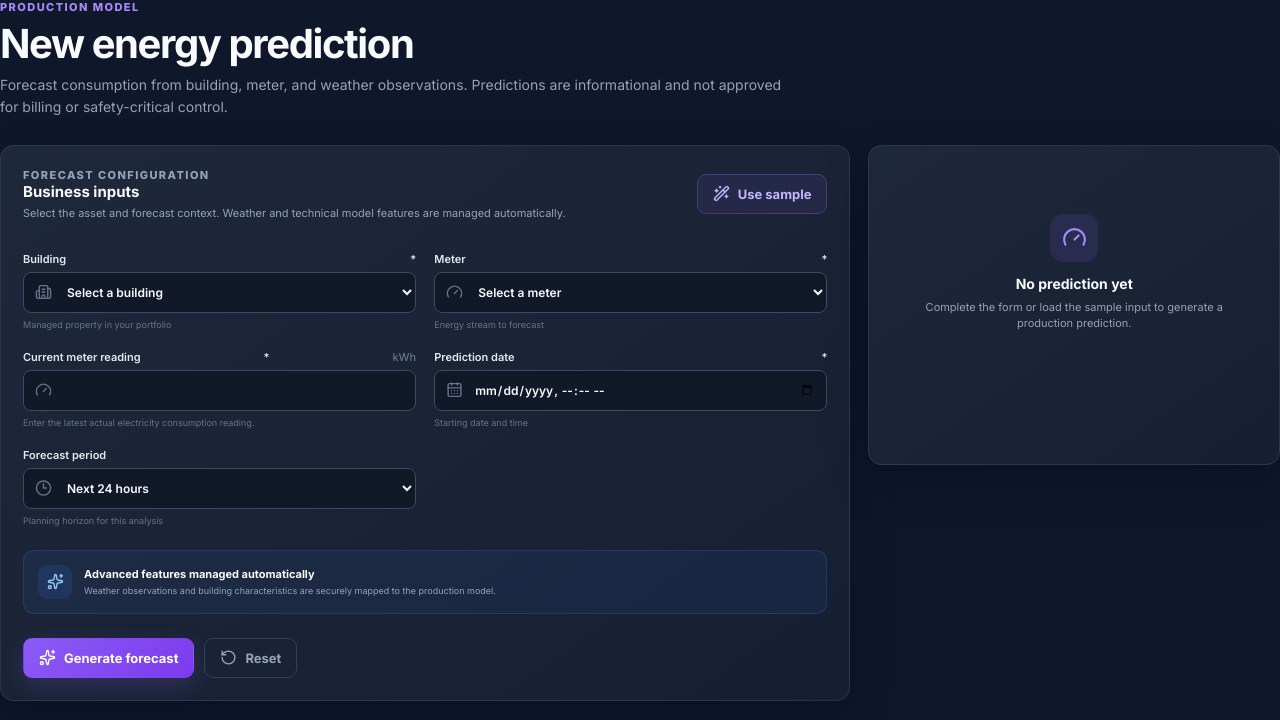
PredictionPage › converts raw numeric form fields and displays the API result
The image size is (1280, 720).
Click the button "Use sample" at (762, 194), box 697,174 -> 828,214
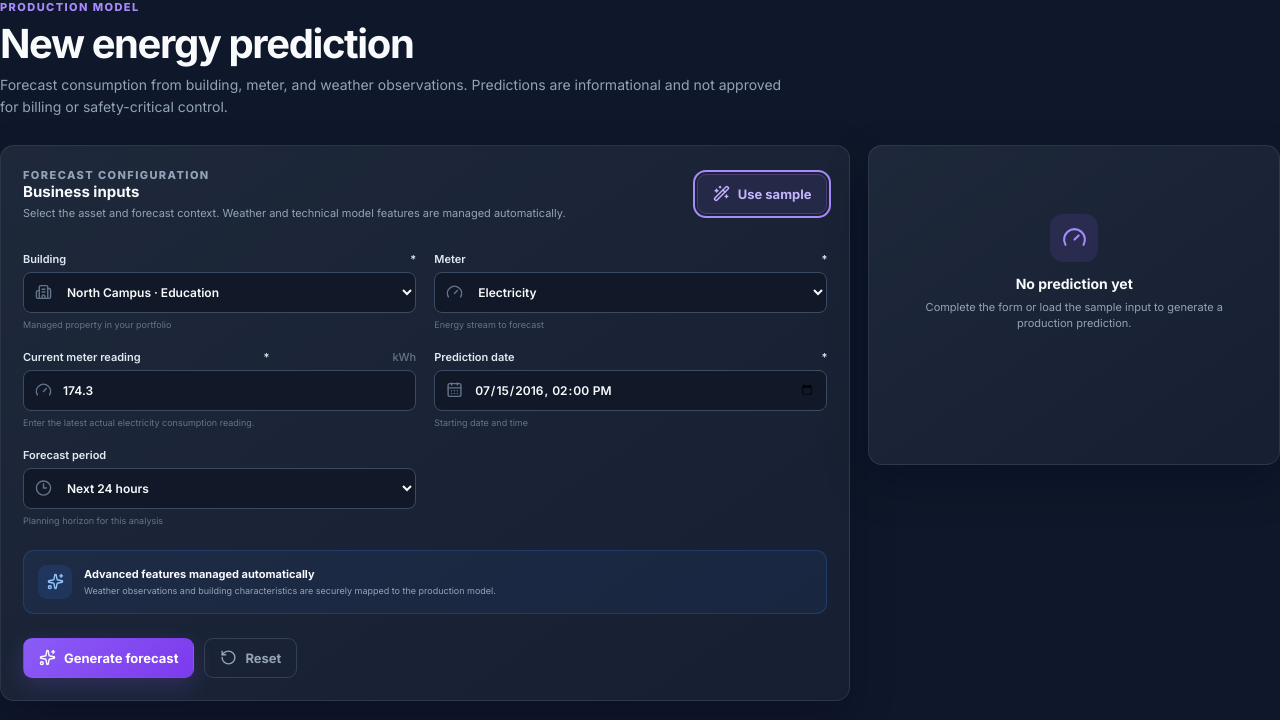
Click the button "Generate forecast" at (109, 658), box 23,638 -> 194,678
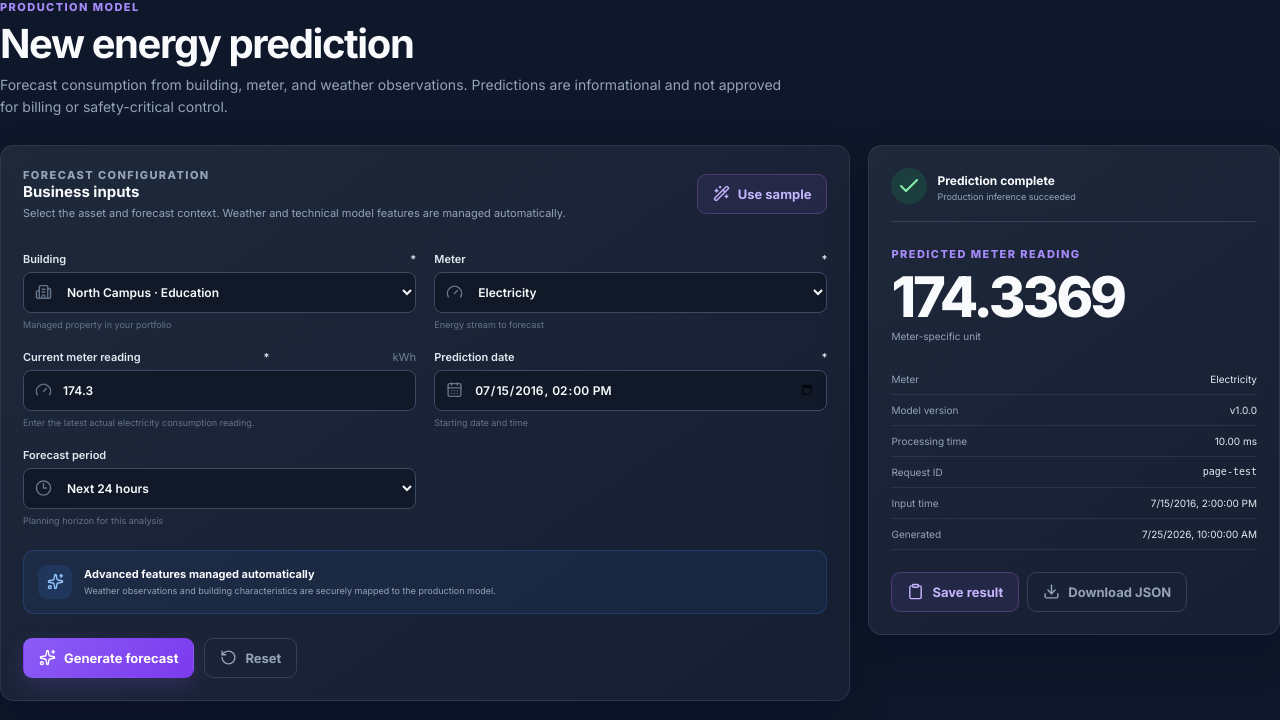
Check: the text "174.3369" is shown, box 892,263 -> 1124,331
